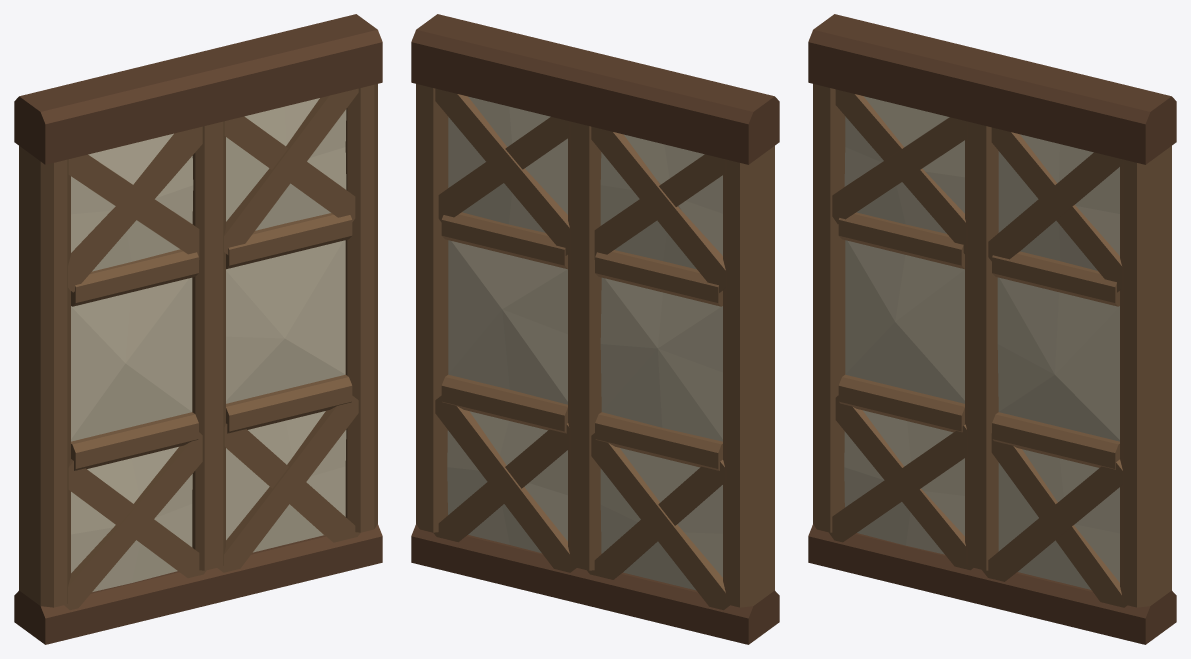
File: stage0_wall_module.glb
The picture shows the model from 3 angles, left to right: view 1: azimuth 30°, elevation 25°; view 2: azimuth 150°, elevation 25°; view 3: azimuth 330°, elevation 25°; orthographic projection.
Parts seen in each view (by area): view 1: wall-shell; view 2: wall-shell; view 3: wall-shell.
Part boxes in pixels (bbox=[...]): wall-shell: bbox=[14, 14, 382, 644]; wall-shell: bbox=[411, 14, 779, 644]; wall-shell: bbox=[808, 14, 1176, 644].
Size of the model in its own units: 2 by 3 by 0.32.
